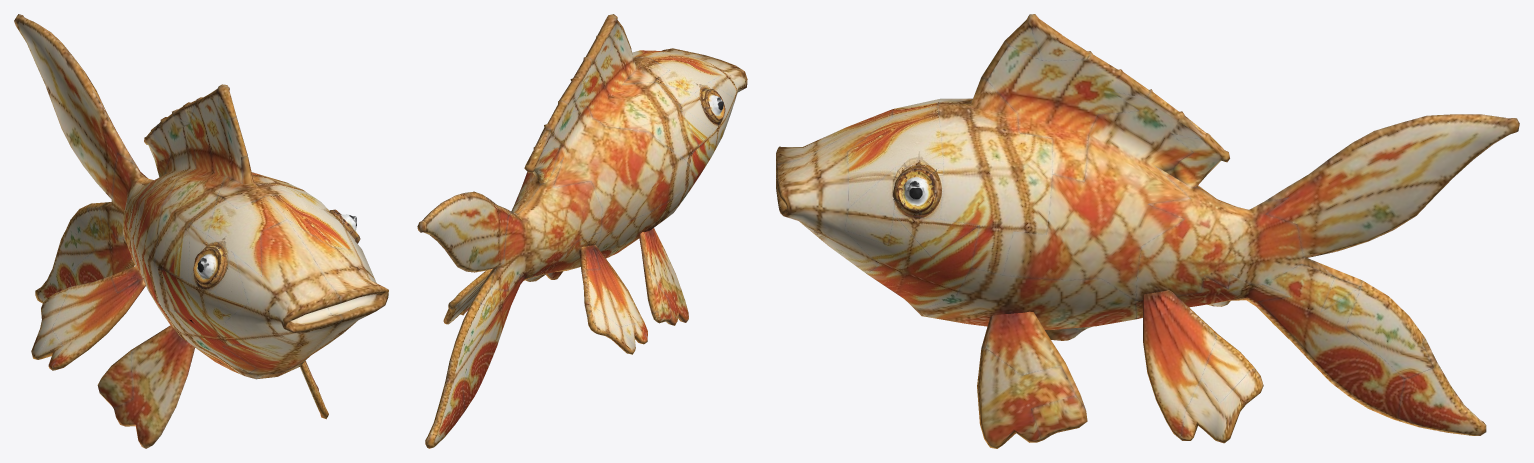
The model's file is fish-colored.glb.
The picture shows the model from 3 angles, left to right: view 1: azimuth 30°, elevation 25°; view 2: azimuth 150°, elevation 25°; view 3: azimuth 270°, elevation 25°; orthographic projection. The views are drawn at different scales.
Visible parts, largest first — view 1: tripo_node_770f67a1-cd8e-4020-a22a-8b8d3323d7ae; view 2: tripo_node_770f67a1-cd8e-4020-a22a-8b8d3323d7ae; view 3: tripo_node_770f67a1-cd8e-4020-a22a-8b8d3323d7ae.
Boxes of the visible parts, bbox=[...] form: tripo_node_770f67a1-cd8e-4020-a22a-8b8d3323d7ae: bbox=[14, 14, 388, 448]; tripo_node_770f67a1-cd8e-4020-a22a-8b8d3323d7ae: bbox=[417, 14, 747, 448]; tripo_node_770f67a1-cd8e-4020-a22a-8b8d3323d7ae: bbox=[776, 14, 1519, 448].
Bounding box in the file's own units: 0.3848 × 0.6113 × 0.998.
1 material, 1 textured.
